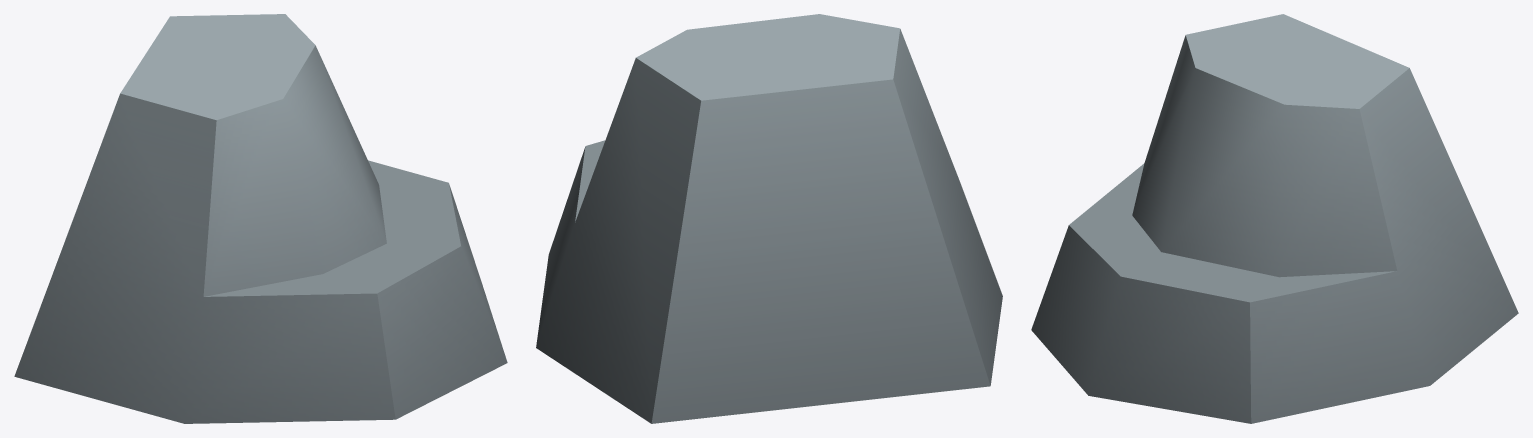
The model's file is rock-single-c.glb.
3 renders of one model, left to right at view 1: azimuth 30°, elevation 25°; view 2: azimuth 150°, elevation 25°; view 3: azimuth 270°, elevation 25°, orthographic. The views are drawn at different scales.
Parts seen in each view (by area): view 1: rock_single_C; view 2: rock_single_C; view 3: rock_single_C.
Part boxes in pixels (left/top/right/bottom): rock_single_C: left=14, top=14, right=507, bottom=423; rock_single_C: left=536, top=14, right=1002, bottom=423; rock_single_C: left=1031, top=14, right=1518, bottom=423.
Size of the model in its own units: 0.3439 by 0.1948 by 0.3442.
Materials: 1 (1 with a texture image).
